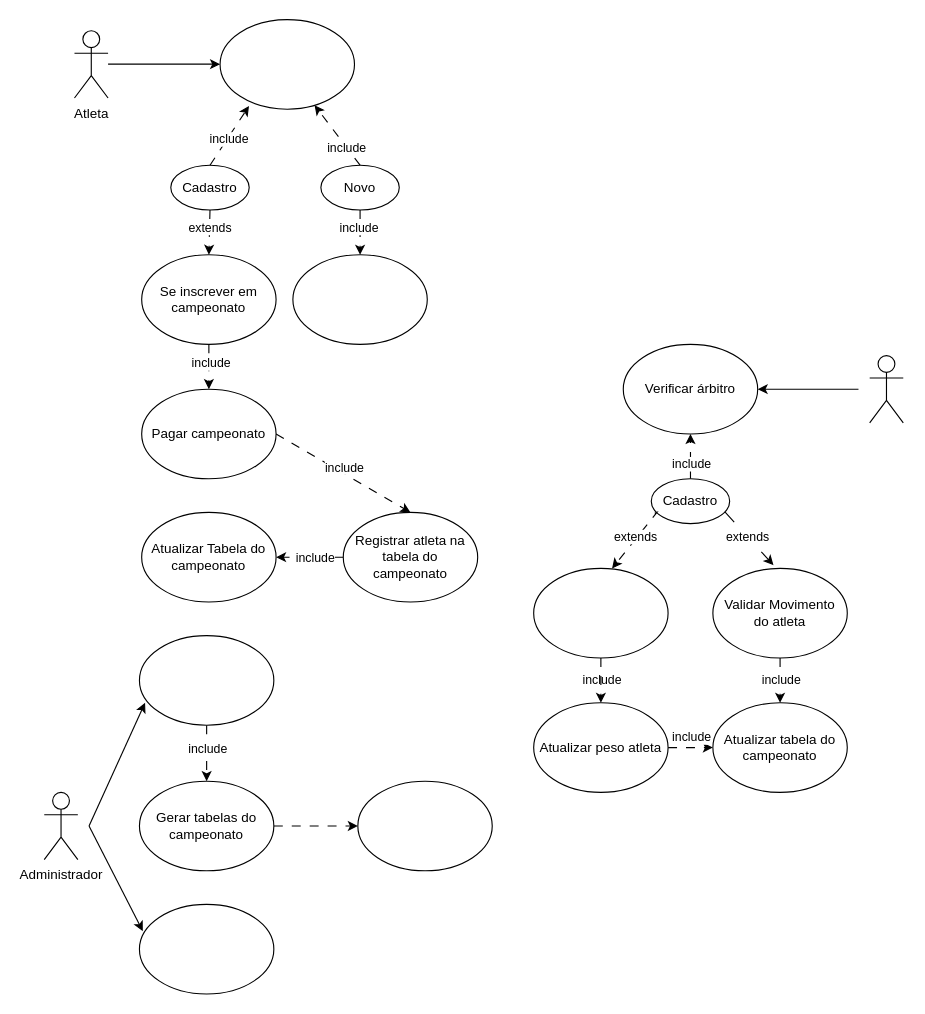
Image size: 925x1014. Some labels were removed from this diagram. The shapes that lost their labels are listed below. From the top down, each one's centre as x and y in pixels, then its label:
At point 286,63: "Verificar atleta".
At point 359,299: "Pagar federação".
At point 886,388: "Árbitro".
At point 600,612: "Pesar atleta".
At point 206,679: "Criar campeonato".
At point 424,825: "Atribuir árbitro no campeonato".
At point 206,948: "Criar cadastro de árbitro".
